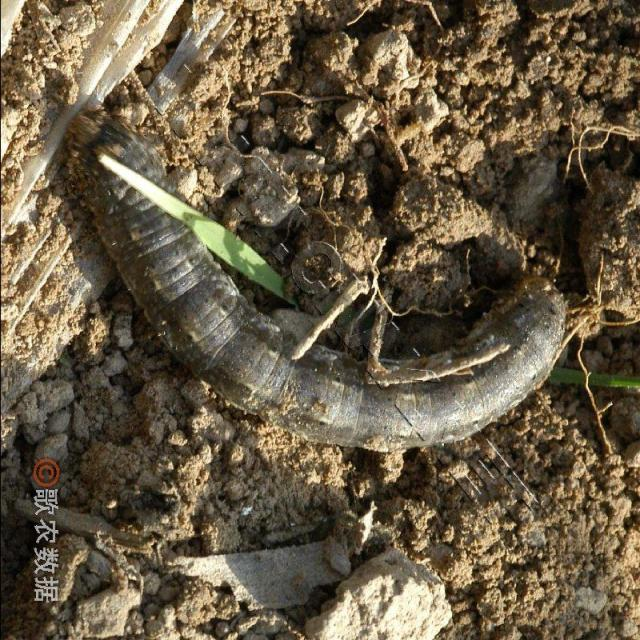black cutworm: (56, 118, 581, 479)
